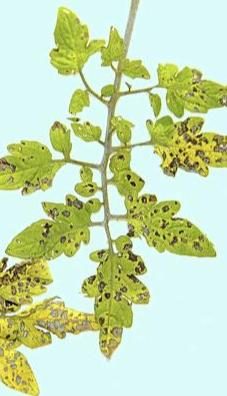Tomato Septoria leaf spot: (0, 287, 115, 396), (84, 231, 158, 375), (3, 186, 103, 282), (0, 120, 85, 215), (122, 188, 227, 259), (144, 114, 227, 180), (44, 8, 109, 89), (154, 55, 227, 120), (0, 260, 59, 324)
